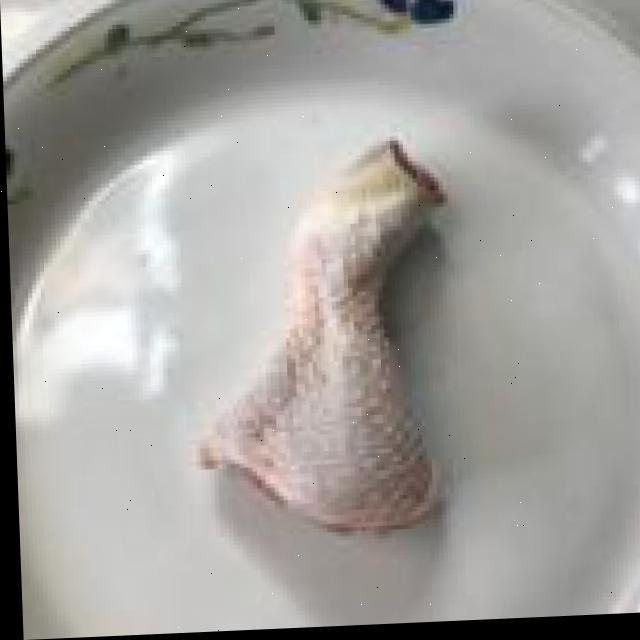leg: (207, 155, 472, 566)
